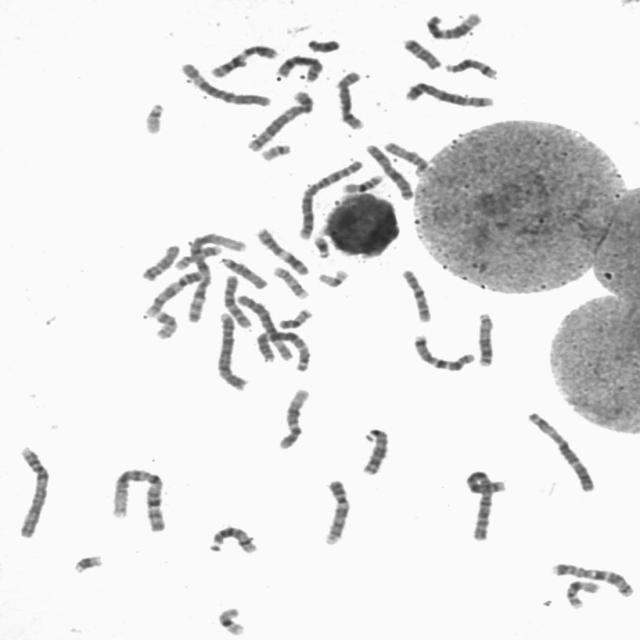A1: (183, 227, 250, 325), (108, 464, 171, 533)
A2: (294, 155, 367, 240), (462, 466, 510, 544)
A3: (524, 407, 600, 493), (252, 327, 313, 373)
B4: (12, 441, 52, 539), (213, 308, 250, 392)
B5: (244, 86, 317, 152), (401, 77, 496, 109)
C10: (398, 265, 435, 324), (219, 270, 254, 328)
C11: (254, 224, 314, 277), (206, 40, 281, 79)
C12: (275, 384, 312, 451), (422, 8, 484, 40)
C6: (176, 58, 275, 109), (233, 291, 295, 362)
C7: (548, 559, 637, 598), (410, 330, 480, 372)
C8: (332, 66, 368, 131), (273, 50, 326, 83)
C9: (141, 267, 206, 318), (320, 475, 353, 547)
D13: (358, 424, 392, 477), (474, 308, 498, 368)
D14: (207, 521, 260, 555), (442, 53, 502, 80)
D15: (381, 138, 434, 178), (218, 253, 270, 291)
E16: (562, 576, 602, 610), (340, 170, 386, 194)
E17: (270, 262, 312, 300), (170, 242, 224, 271)
E18: (138, 240, 182, 282), (399, 34, 444, 70)
F19: (214, 603, 248, 637), (314, 265, 351, 288)
F20: (150, 307, 181, 341), (275, 304, 315, 330)
G21: (70, 550, 106, 575), (310, 232, 333, 259)
G22: (140, 98, 167, 136), (257, 140, 294, 162)
X: (363, 140, 417, 201)
Y: (304, 34, 344, 54)
